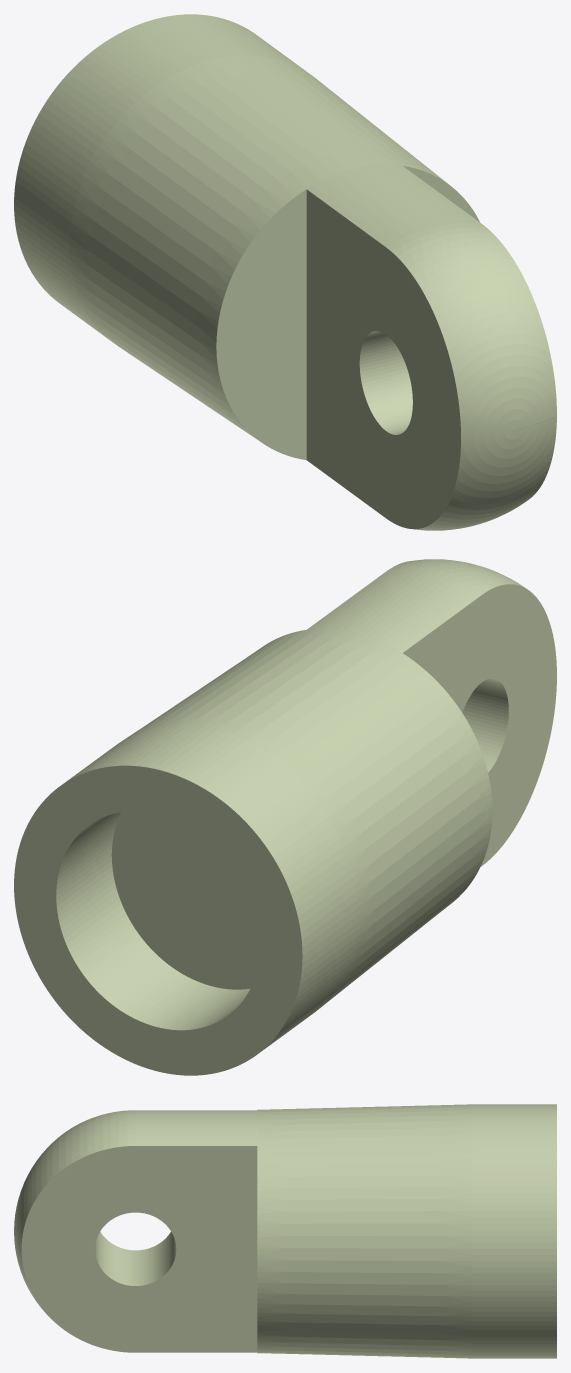
3 renders of one model, top to bottom at view 1: azimuth 30°, elevation 25°; view 2: azimuth 150°, elevation 25°; view 3: azimuth 270°, elevation 25°, orthographic. The views are drawn at different scales.
Visible parts, largest first — view 1: node; view 2: node; view 3: node.
Part boxes in pixels (left/top/right/bottom): node: left=14, top=14, right=556, bottom=530; node: left=14, top=559, right=556, bottom=1075; node: left=14, top=1104, right=556, bottom=1358.
Size of the model in its own units: 0.0888 by 0.0887 by 0.1896.
